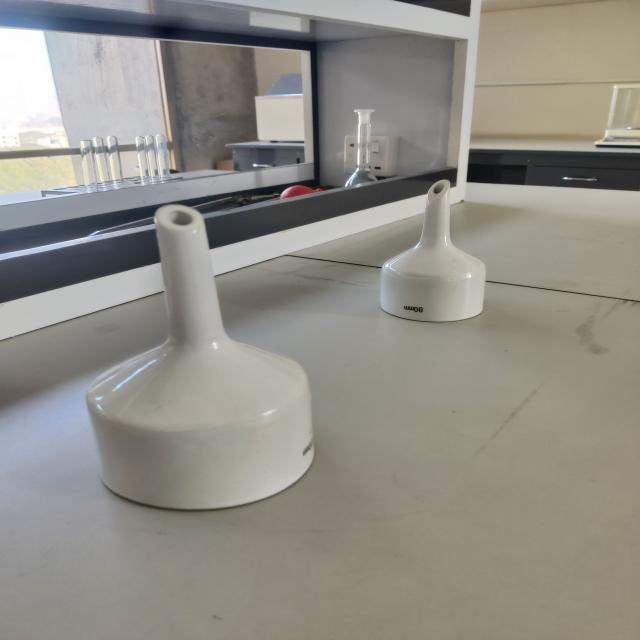Buchner_Funnel: (60, 191, 347, 528), (361, 164, 524, 344)
